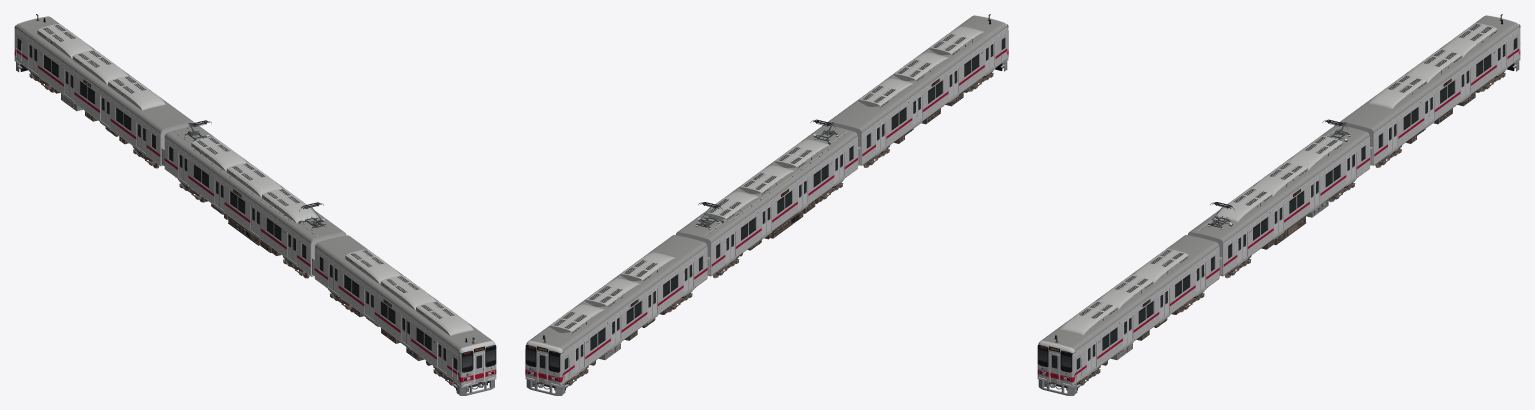
Rendered from tobu30000-isesaki.glb.
The picture shows the model from 3 angles, left to right: view 1: azimuth 30°, elevation 25°; view 2: azimuth 150°, elevation 25°; view 3: azimuth 330°, elevation 25°; orthographic projection.
Visible parts, largest first — view 1: car0_body, car2_body, car1_body, car1_gear, car0_gear, car2_gear; view 2: car2_body, car0_body, car1_body, car1_gear, car2_gear, car0_gear; view 3: car0_body, car2_body, car1_body, car1_gear, car0_gear, car2_gear.
Part boxes in pixels (x1,y1,x2,y2): car0_body: (314, 235, 496, 387); car2_body: (14, 16, 194, 166); car1_body: (163, 125, 346, 276); car1_gear: (174, 120, 326, 278); car0_gear: (329, 249, 496, 395); car2_gear: (14, 14, 165, 168); car2_body: (525, 235, 708, 387); car0_body: (828, 15, 1008, 165); car1_body: (676, 125, 858, 275); car1_gear: (695, 119, 848, 278); car2_gear: (525, 252, 695, 395); car0_gear: (857, 14, 1008, 167); car0_body: (1037, 235, 1220, 387); car2_body: (1340, 15, 1520, 165); car1_body: (1188, 125, 1370, 275); car1_gear: (1197, 119, 1355, 278); car0_gear: (1037, 249, 1207, 395); car2_gear: (1369, 14, 1520, 167).
Bounding box in the file's own units: 2.88 × 5.03 × 60.44.
Materials: 5 (5 with a texture image).
